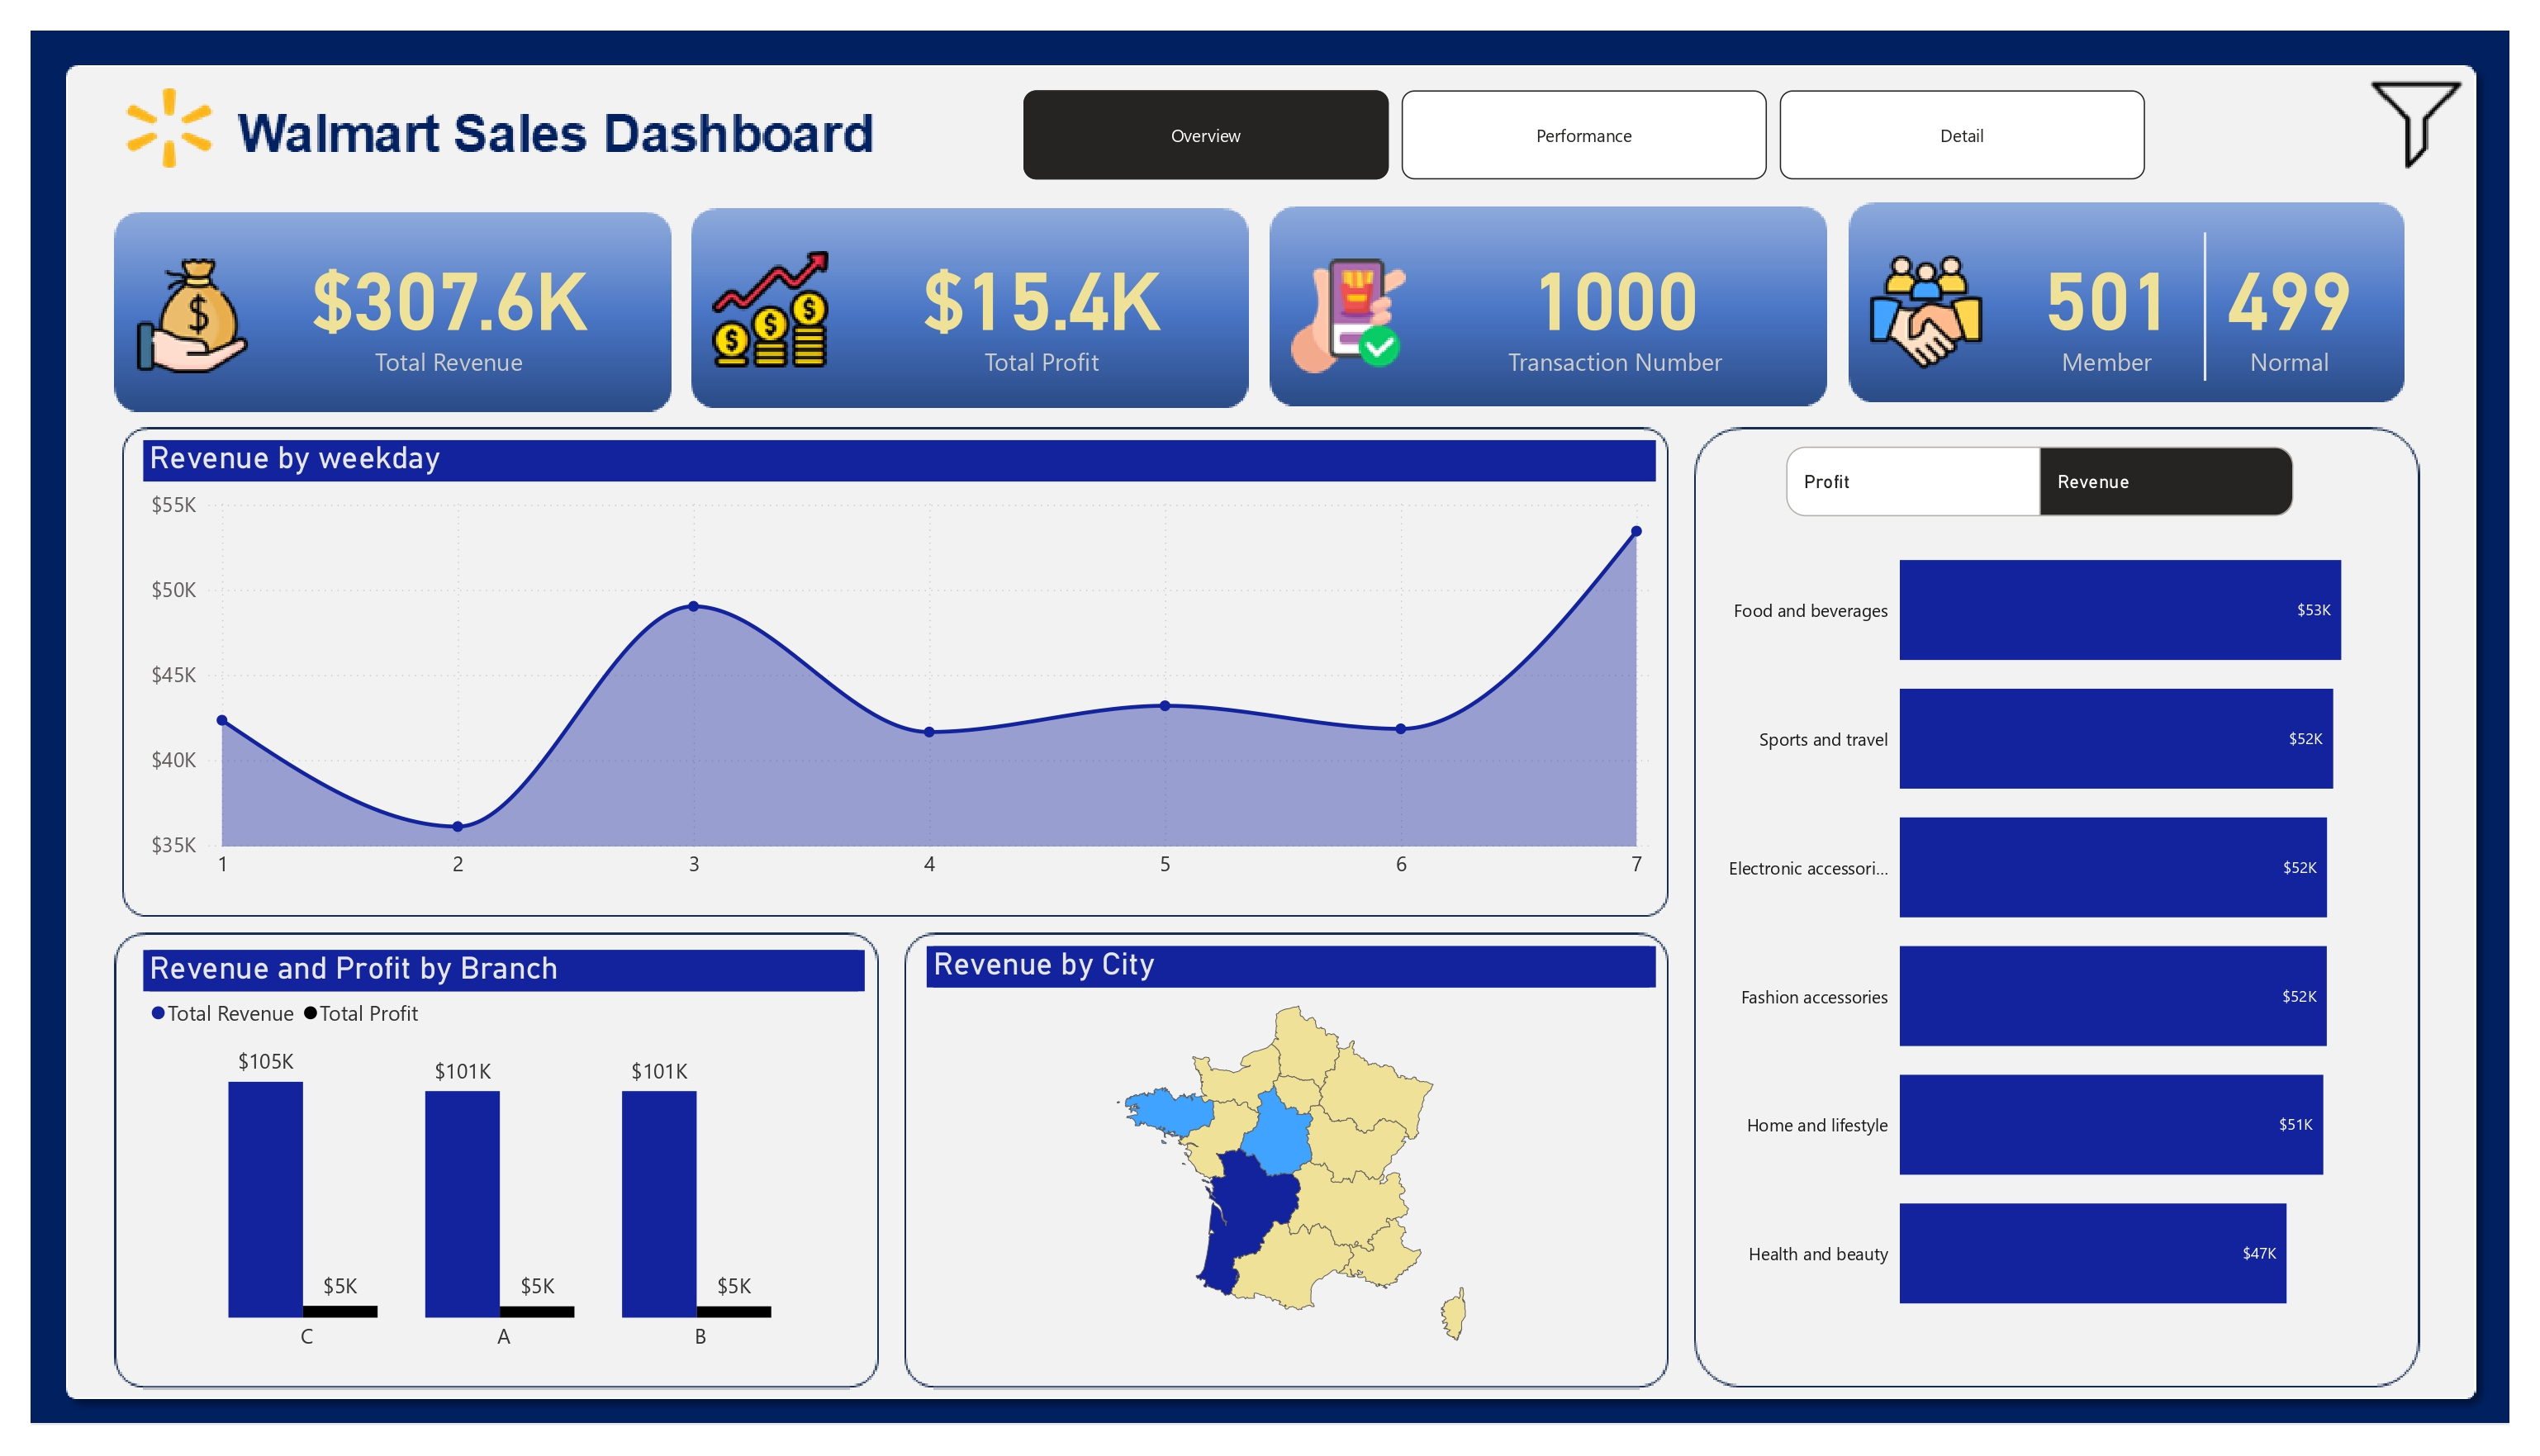

Layout of this report page (visuals, bound fields, positions):
{"tool":"powerbi","page":{"name":"Overview","canvas":[1920,1080],"ordinal":0},"visuals":[{"type":"clusteredColumnChart","title":" Revenue and Profit by Branch","fields":{"Category":["walmart_sales_analysis_db ws.Branch"],"Y":["_Measure.Total Revenue","_Measure.Total Profit"]},"box":[86.5,712.3,559.5,320.2],"z":0},{"type":"lineChart","title":"Revenue by weekday","fields":{"Y":["_Measure.Total Revenue"],"Category":["Date.Start_of_day"]},"box":[86.5,316.6,1172.4,349.7],"z":1000},{"type":"shapeMap","title":"Revenue by City","fields":{"Category":["walmart_sales_analysis_db ws.City"],"Value":["_Measure.Total Revenue"]},"box":[693.9,708.6,565,325.8],"z":2000},{"type":"barChart","title":"Product line","fields":{"Y":["_Measure.Press button"],"Category":["walmart_sales_analysis_db ws.Product_line"]},"box":[1299.4,357.1,544.8,675.5],"z":3000},{"type":"card","fields":{"Values":["_Measure.Total Profit"]},"box":[629.5,138,307.4,150.9],"z":4000},{"type":"card","fields":{"Values":["_Measure.Total Revenue"]},"box":[173,138,301.8,150.9],"z":5000},{"type":"card","fields":{"Values":["_Measure.Transaction Number"]},"box":[1082.2,138,290.8,150.9],"z":6000},{"type":"card","fields":{"Values":["_Measure.Members"]},"box":[1540.5,138,136.2,150.9],"z":7000},{"type":"card","fields":{"Values":["_Measure.Normal"]},"box":[1682.2,138,136.2,150.9],"z":8000},{"type":"shape","box":[1608.6,156.4,150.9,114.1],"z":9000},{"type":"advancedSlicerVisual","title":"Revenue and Profit by Product line","fields":{"Values":["_Calc Table.Button"]},"box":[1354.6,316.6,404.9,64.4],"z":10000},{"type":"pageNavigator","box":[769.3,46,870.6,69.9],"z":11000},{"type":"actionButton","box":[1789.6,28.6,103.9,88.3],"z":11500}]}

Visuals, with their boxes on the page's 1920x1080 design canvas (x1, y1, x2, y2). These are canvas units, not pixel positions in the 2540x1456 screenshot, which may show the page scaled, cropped or inside an application window:
" Revenue and Profit by Branch" clusteredColumnChart: [x1=86, y1=712, x2=646, y2=1032]
"Revenue by weekday" lineChart: [x1=86, y1=317, x2=1259, y2=666]
"Revenue by City" shapeMap: [x1=694, y1=709, x2=1259, y2=1034]
"Product line" barChart: [x1=1299, y1=357, x2=1844, y2=1033]
card - _Measure.Total Profit: [x1=630, y1=138, x2=937, y2=289]
card - _Measure.Total Revenue: [x1=173, y1=138, x2=475, y2=289]
card - _Measure.Transaction Number: [x1=1082, y1=138, x2=1373, y2=289]
card - _Measure.Members: [x1=1540, y1=138, x2=1677, y2=289]
card - _Measure.Normal: [x1=1682, y1=138, x2=1818, y2=289]
shape: [x1=1609, y1=156, x2=1760, y2=270]
"Revenue and Profit by Product line" advancedSlicerVisual: [x1=1355, y1=317, x2=1760, y2=381]
pageNavigator: [x1=769, y1=46, x2=1640, y2=116]
actionButton: [x1=1790, y1=29, x2=1894, y2=117]
